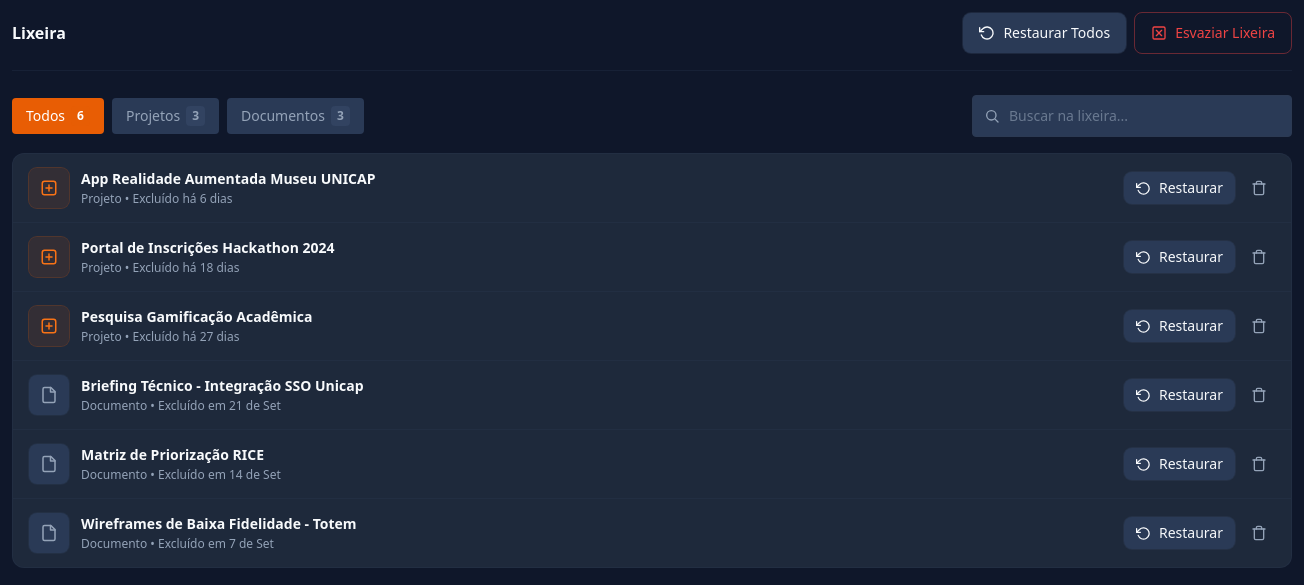
Test: Lixeira (janela) › busca por título na lixeira
In the search field labelled "Buscar na lixeira": (1132, 116) [972,95,1292,137], type "hackathon"
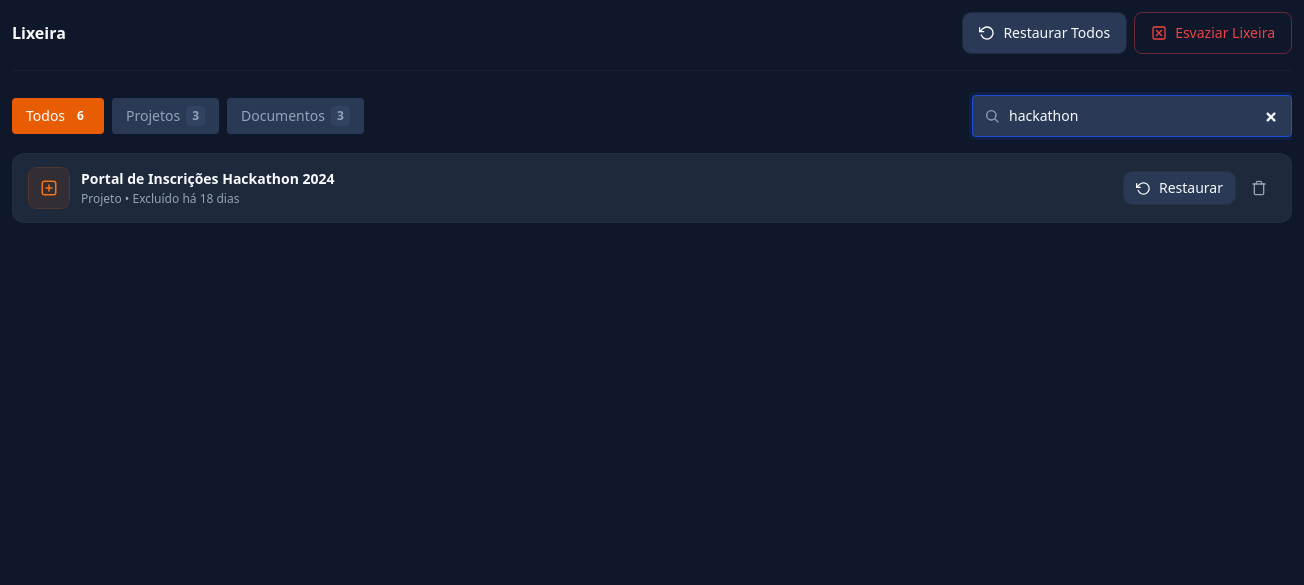
Expected: the text "Portal de Inscrições Hackathon 2024" is shown, [81,169,334,188]
Result: the number of list items is 1 at [29,168,1275,208]
